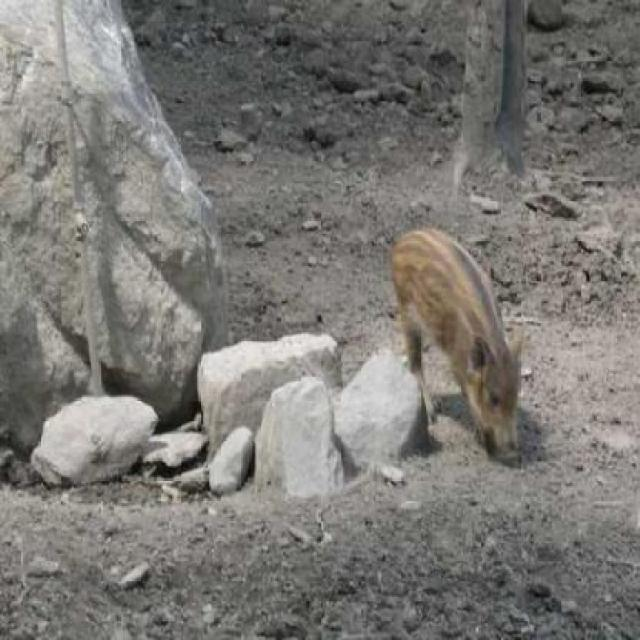pig: (363, 208, 559, 470)
